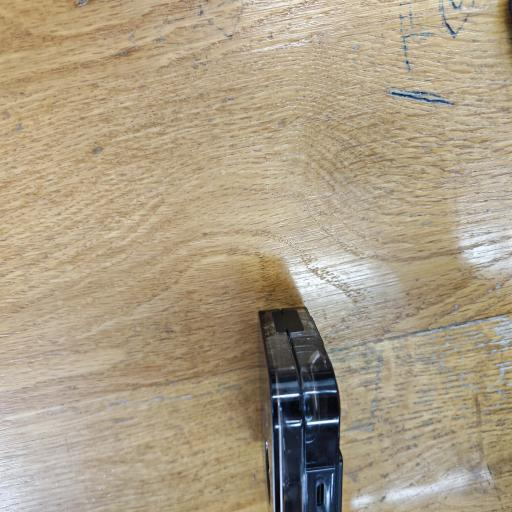Headphones: (257, 297, 346, 512)
